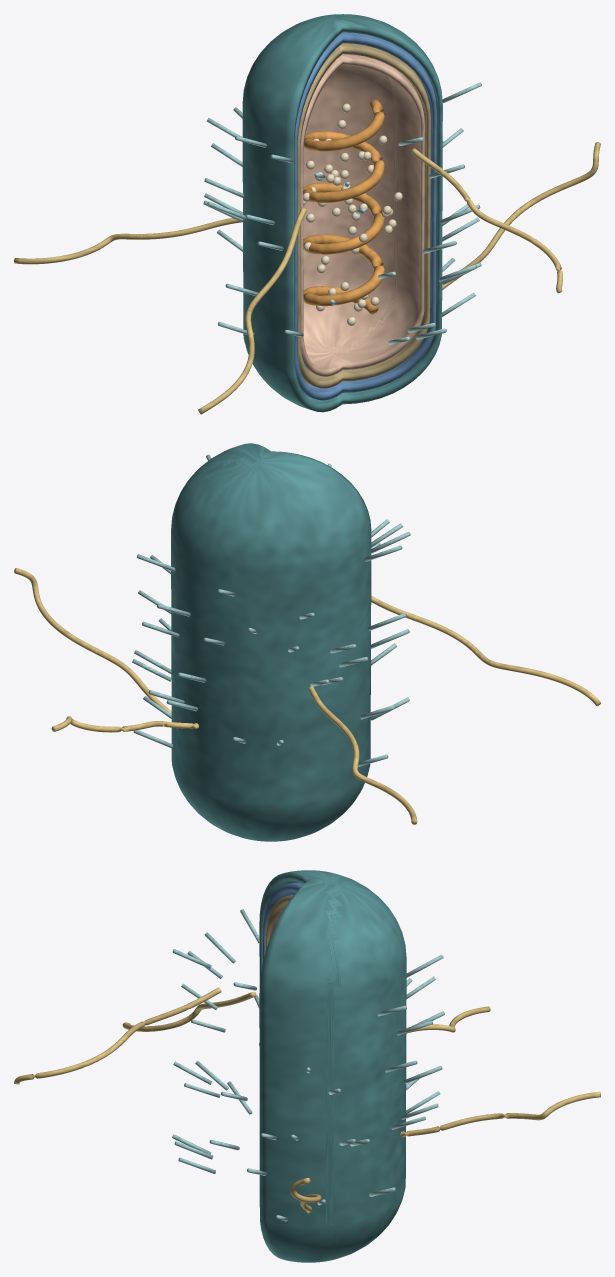
The model's file is cutaway.glb.
The picture shows the model from 3 angles, top to bottom: view 1: azimuth 30°, elevation 25°; view 2: azimuth 150°, elevation 25°; view 3: azimuth 270°, elevation 25°; orthographic projection. The views are drawn at different scales.
Visible parts, largest first — view 1: citoplasma_mesh, externa_mesh, nucleoide_mesh, parede_mesh, membrana_mesh, flagelo_mesh, pili_mesh, ribossomos_mesh; view 2: externa_mesh, flagelo_mesh, pili_mesh; view 3: externa_mesh, pili_mesh, flagelo_mesh, parede_mesh.
Part boxes in pixels (x1,y1,x2,y2): citoplasma_mesh: (300, 54, 424, 376); externa_mesh: (242, 14, 442, 412); nucleoide_mesh: (303, 99, 384, 314); parede_mesh: (294, 32, 436, 400); membrana_mesh: (297, 43, 430, 388); flagelo_mesh: (14, 142, 600, 414); pili_mesh: (203, 82, 481, 344); ribossomos_mesh: (303, 103, 402, 325); externa_mesh: (171, 443, 371, 841); flagelo_mesh: (14, 568, 600, 824); pili_mesh: (132, 454, 410, 766); externa_mesh: (259, 870, 406, 1262); pili_mesh: (172, 909, 444, 1221); flagelo_mesh: (14, 987, 600, 1213); parede_mesh: (262, 882, 302, 965).
Size of the model in its own units: 3.14 by 2.3 by 3.29.
8 materials, 8 textured.
